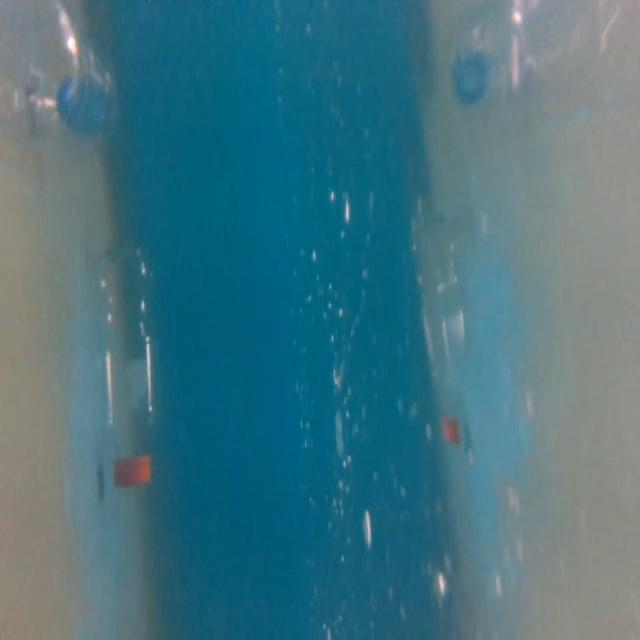plastic bottle: (86, 240, 170, 493)
